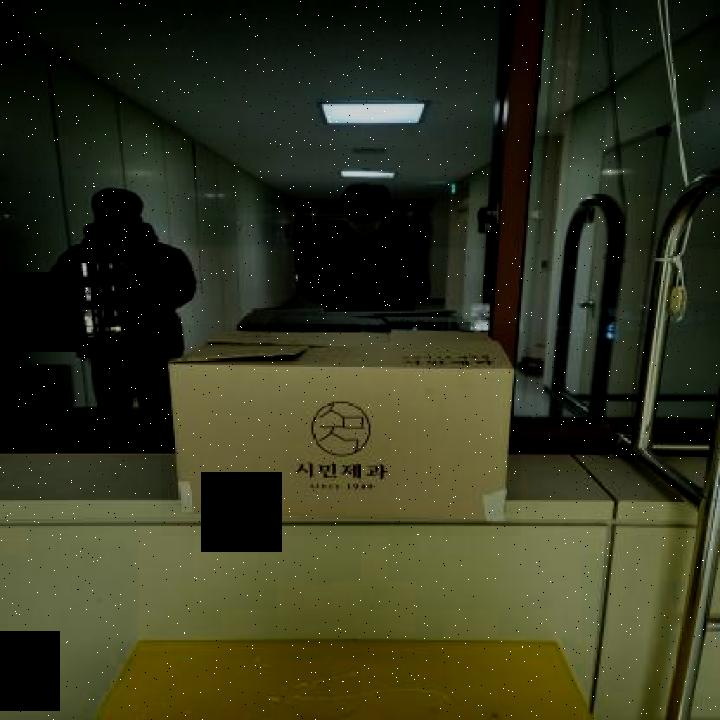box: (161, 324, 521, 536)
